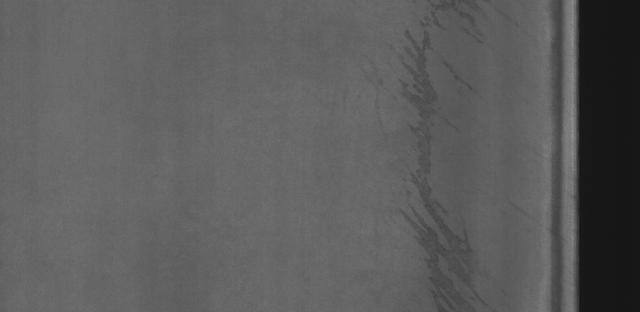water_spot: (374, 9, 491, 308)
